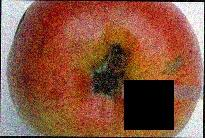rotten apple: (1, 1, 204, 137)
